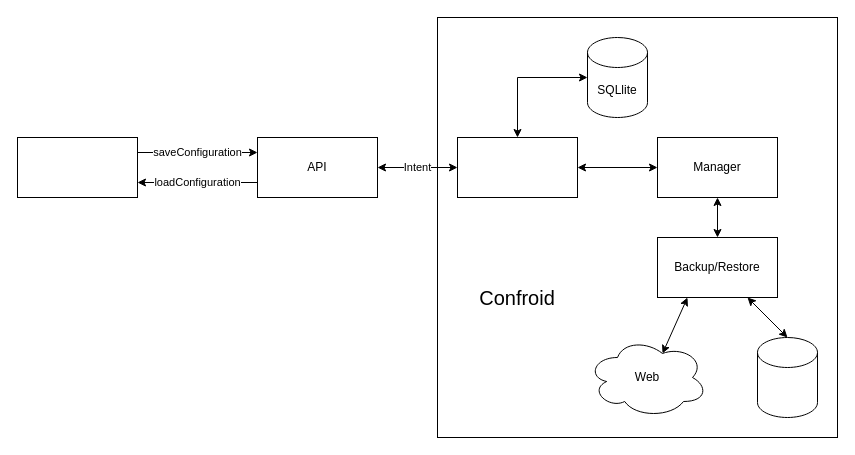
This 855x455 diagram has some shape labels left out. The centre of each missing label's shape, as x and y in pixels:
Client: (77,167)
Local: (787,377)
Service: (517,167)
